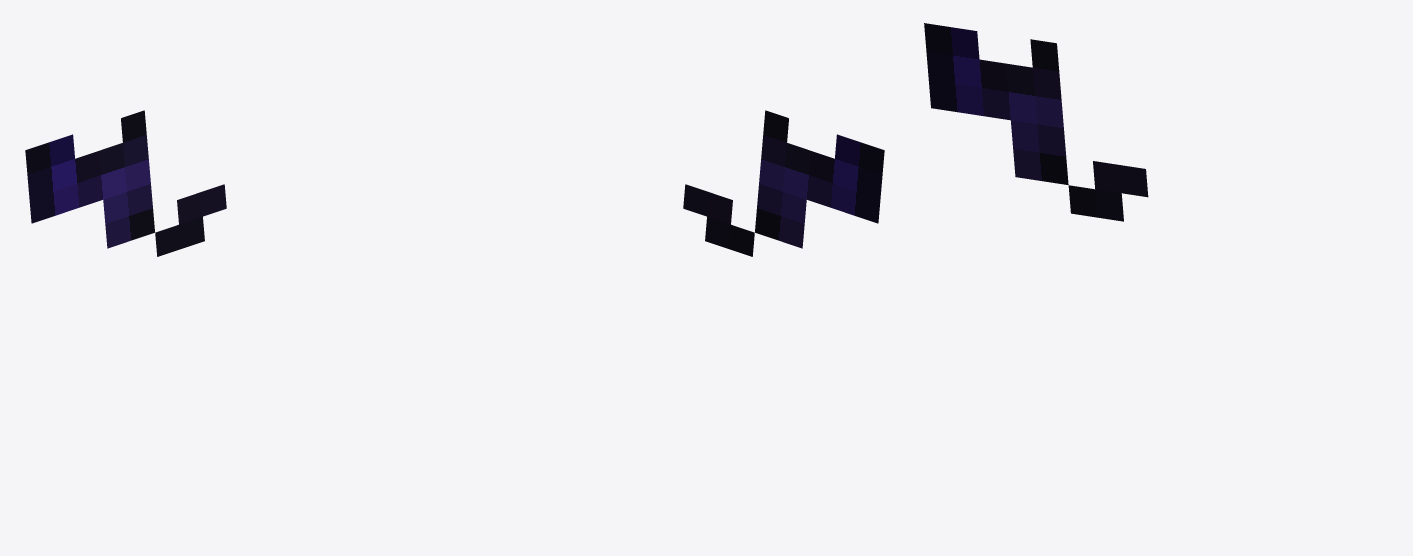
File: watcher_claymore.gltf
The picture shows the model from 3 angles, left to right: view 1: azimuth 30°, elevation 25°; view 2: azimuth 150°, elevation 25°; view 3: azimuth 330°, elevation 25°; orthographic projection. The views are drawn at different scales.
Parts seen in each view (by area): view 1: cube; view 2: cube; view 3: cube.
Boxes of the visible parts, box(x1,y1,x2,y2) form: cube: box(25, 110, 226, 256); cube: box(683, 110, 884, 256); cube: box(924, 23, 1148, 221).
Size of the model in its own units: 0.4063 by 0.4063 by 0.0188.
Materials: 1 (1 with a texture image).
